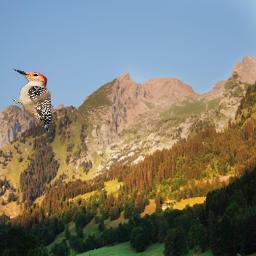Woodpecker: (13, 68, 51, 132)
